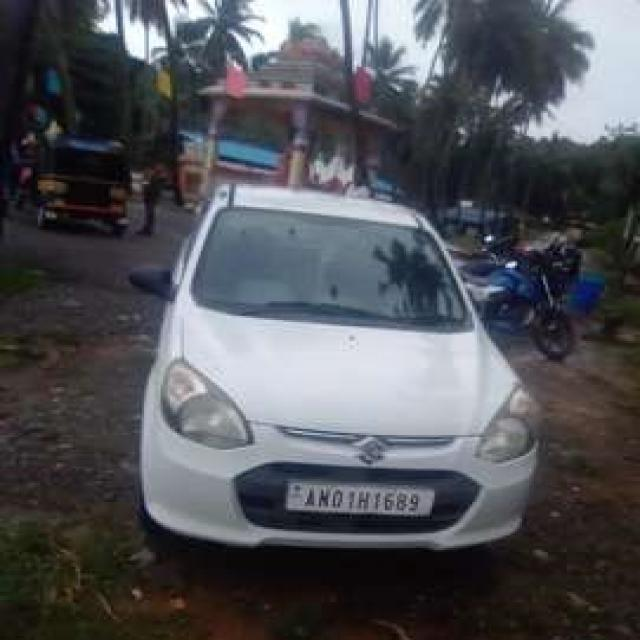Plate: (284, 403, 432, 433)
